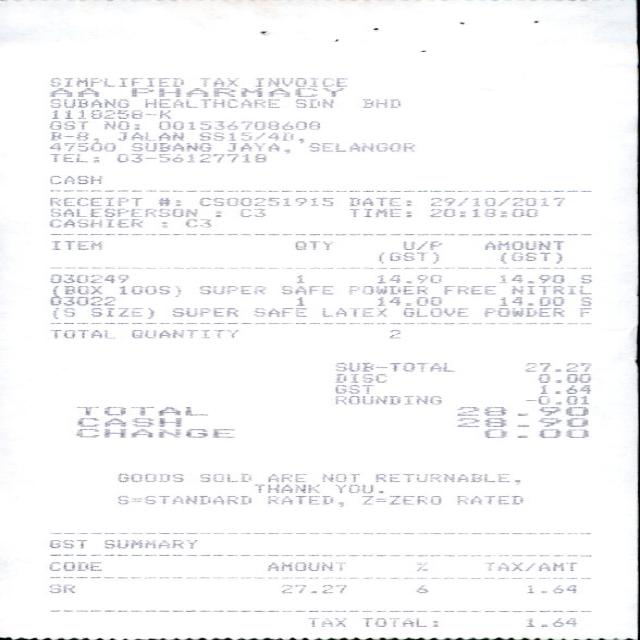text: (128, 87, 342, 96), (372, 472, 517, 482), (158, 120, 319, 129), (74, 428, 233, 437), (116, 153, 264, 162), (48, 207, 195, 216), (49, 76, 182, 85), (456, 417, 587, 426), (76, 406, 206, 415), (142, 98, 276, 106), (116, 495, 250, 503), (430, 197, 563, 205), (198, 197, 331, 205), (52, 109, 169, 118), (456, 407, 587, 415), (331, 395, 440, 404), (128, 328, 236, 337), (308, 142, 415, 151), (334, 362, 453, 370), (265, 494, 343, 506), (428, 208, 536, 216), (101, 539, 197, 548), (198, 131, 292, 140), (47, 218, 141, 227), (482, 429, 587, 437), (251, 77, 344, 86), (76, 418, 180, 426), (481, 562, 575, 570), (498, 250, 560, 262), (90, 307, 152, 319), (481, 306, 562, 315), (49, 196, 140, 204), (483, 240, 563, 249), (376, 250, 436, 262), (344, 285, 424, 294), (509, 285, 588, 294), (49, 98, 127, 107), (131, 141, 209, 150), (267, 561, 345, 570), (225, 141, 288, 152), (48, 328, 115, 338), (198, 284, 263, 294), (360, 495, 440, 503), (49, 274, 127, 282), (118, 284, 180, 294), (496, 296, 563, 305), (523, 362, 590, 371), (116, 131, 182, 140), (319, 307, 385, 316), (279, 583, 345, 592), (49, 142, 114, 151), (498, 274, 562, 283), (402, 307, 466, 316), (171, 307, 235, 316), (346, 207, 409, 216), (361, 617, 424, 626), (252, 306, 307, 316), (251, 483, 318, 491), (47, 560, 100, 570), (373, 274, 439, 282), (375, 297, 441, 305), (116, 473, 182, 481), (441, 284, 493, 294), (49, 296, 114, 304), (454, 495, 519, 503), (346, 197, 409, 205), (50, 284, 100, 294), (524, 396, 586, 404), (48, 174, 102, 183), (537, 373, 590, 382), (524, 583, 576, 592), (524, 617, 576, 626), (334, 373, 385, 382), (47, 87, 97, 96), (47, 131, 97, 140), (47, 152, 97, 161), (281, 285, 331, 294), (50, 241, 101, 249), (538, 384, 589, 392), (199, 473, 249, 481), (293, 240, 331, 250), (303, 617, 344, 626), (104, 120, 140, 130), (336, 483, 381, 491), (293, 98, 331, 107), (48, 539, 86, 548), (49, 119, 86, 128), (359, 98, 400, 106), (403, 241, 442, 249), (333, 384, 371, 392), (266, 473, 304, 481), (321, 473, 358, 481), (49, 306, 73, 318), (197, 78, 235, 85), (184, 218, 210, 227), (47, 583, 72, 592), (240, 208, 264, 216), (158, 196, 178, 204), (578, 273, 590, 282), (292, 273, 304, 282), (578, 307, 590, 316), (388, 328, 400, 337), (414, 560, 424, 570), (578, 296, 590, 304), (292, 296, 302, 304), (414, 584, 424, 592)
